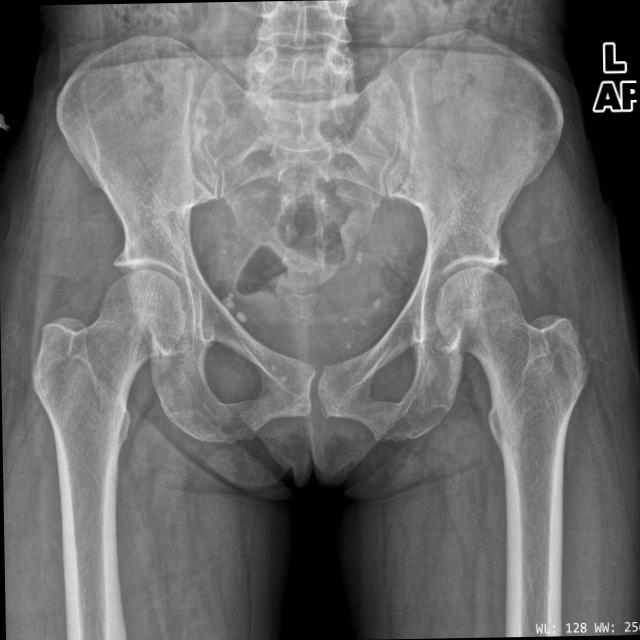normal-left: (437, 267, 588, 531)
normal-right: (32, 270, 184, 562)
